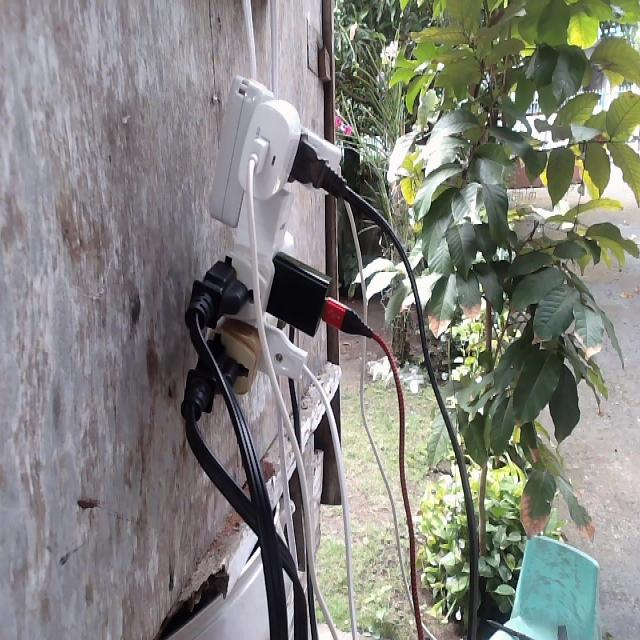-: (190, 68, 348, 388)
